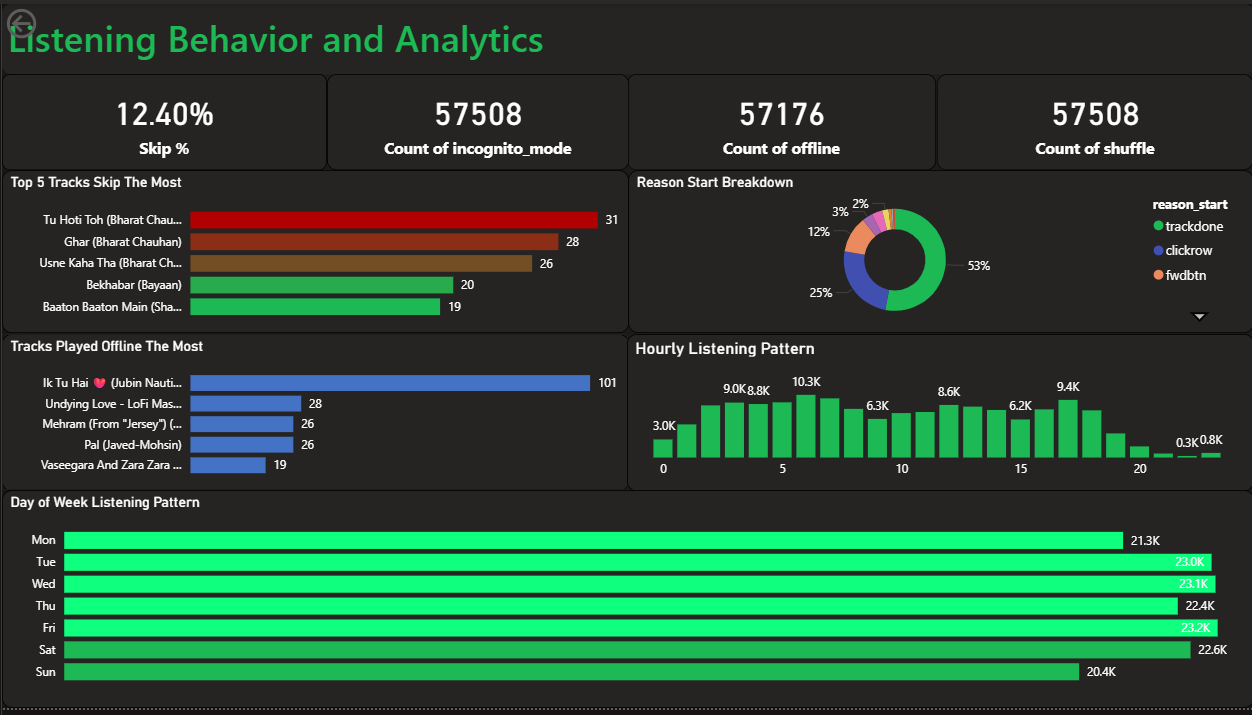

The dashboard page shown, as its layout file describes it:
{"tool":"powerbi","page":{"name":"Page 2","canvas":[1280,720],"ordinal":1},"visuals":[{"type":"textbox","box":[0,0,1280,72.1],"z":0},{"type":"card","fields":{"Values":["public spotify_wrapped.Skip %"]},"box":[0,72.1,332.1,98.3],"z":1000},{"type":"card","fields":{"Values":["public spotify_wrapped.shuffle"]},"box":[955.4,72.1,323.4,98.3],"z":2000},{"type":"card","fields":{"Values":["public spotify_wrapped.offline"]},"box":[639.4,72.1,316,98.3],"z":3000},{"type":"card","fields":{"Values":["public spotify_wrapped.incognito_mode"]},"box":[332.1,72.1,308.5,98.3],"z":4000},{"type":"actionButton","box":[0,0,100,40],"z":5000},{"type":"barChart","title":"Top 5 Tracks Skip The Most","fields":{"Category":["public spotify_wrapped.Track_Artist_Key"],"Y":["public spotify_wrapped.Skip Count"]},"box":[0,170.4,640.6,166.7],"z":6000},{"type":"barChart","title":"Tracks Played Offline The Most","fields":{"Category":["public spotify_wrapped.Track_Artist_Key"],"Y":["public spotify_wrapped.Offline Count"]},"box":[0,337.1,640.6,160.5],"z":7000},{"type":"donutChart","title":"Reason Start Breakdown","fields":{"Category":["public spotify_wrapped.reason_start"],"Y":["public spotify_wrapped.track_uri"]},"box":[640.6,170.4,639.4,166.7],"z":8000},{"type":"columnChart","title":"Hourly Listening Pattern","fields":{"Y":["public spotify_wrapped.Total Minutes"],"Category":["public spotify_wrapped.Hour"]},"box":[639.4,337.1,640.6,160.5],"z":10000},{"type":"barChart","title":"Day of Week Listening Pattern","fields":{"Category":["public spotify_wrapped.Day of Week"],"Y":["public spotify_wrapped.Total Minutes"]},"box":[0,497.6,1280,222.7],"z":11000}]}

Visuals, with their boxes in screenshot pixels (x1, y1, x2, y2), scaled from the page's 1280x720 canvas onto the 1252x715 screenshot:
textbox: bbox=[0, 0, 1251, 72]
card - public spotify_wrapped.Skip %: bbox=[0, 72, 325, 169]
card - public spotify_wrapped.shuffle: bbox=[935, 72, 1251, 169]
card - public spotify_wrapped.offline: bbox=[625, 72, 935, 169]
card - public spotify_wrapped.incognito_mode: bbox=[325, 72, 627, 169]
actionButton: bbox=[0, 0, 98, 40]
"Top 5 Tracks Skip The Most" barChart: bbox=[0, 169, 627, 335]
"Tracks Played Offline The Most" barChart: bbox=[0, 335, 627, 494]
"Reason Start Breakdown" donutChart: bbox=[627, 169, 1251, 335]
"Hourly Listening Pattern" columnChart: bbox=[625, 335, 1251, 494]
"Day of Week Listening Pattern" barChart: bbox=[0, 494, 1251, 714]
